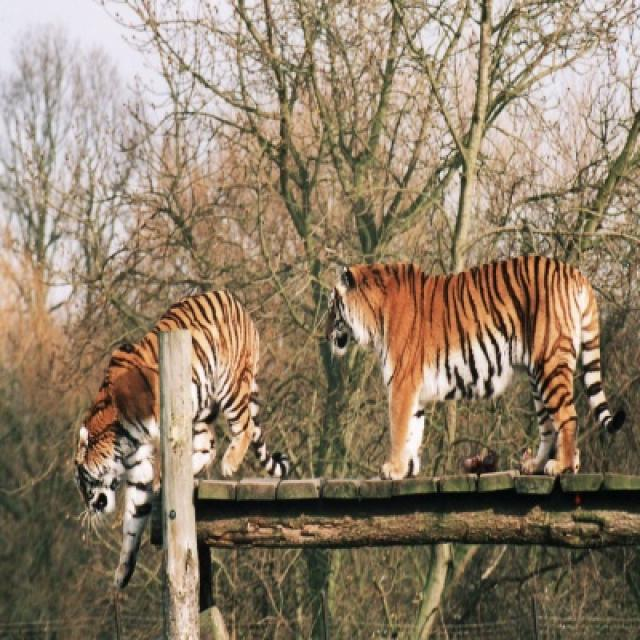Tiger: (330, 258, 617, 479), (74, 289, 284, 582)
